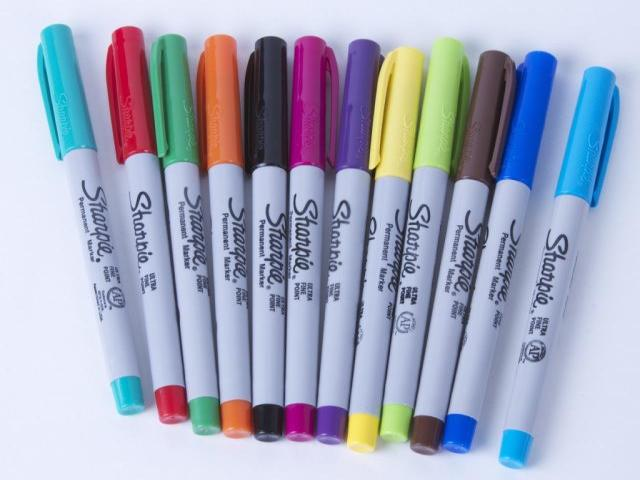PEN: (414, 37, 574, 459), (378, 39, 528, 463), (487, 62, 628, 472), (21, 18, 149, 422), (365, 34, 472, 447), (326, 42, 429, 456), (289, 34, 390, 448), (94, 22, 185, 428), (150, 32, 219, 442), (189, 29, 252, 443), (269, 31, 332, 441), (237, 31, 289, 446)
